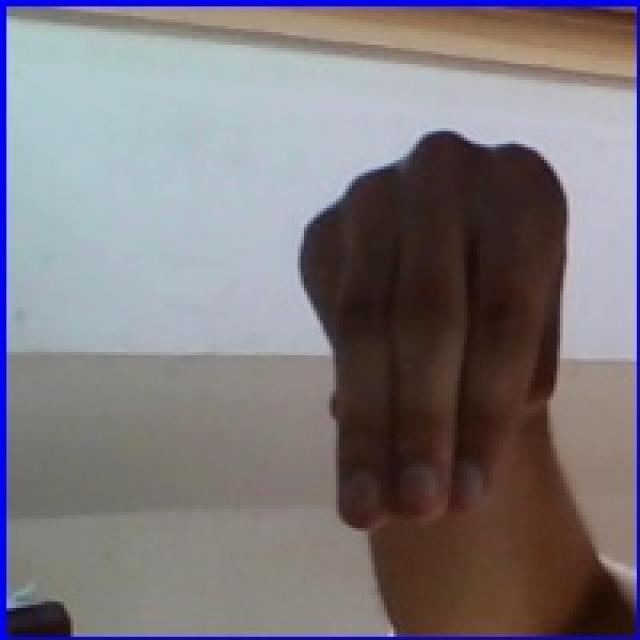Letra M: (284, 93, 609, 564)
